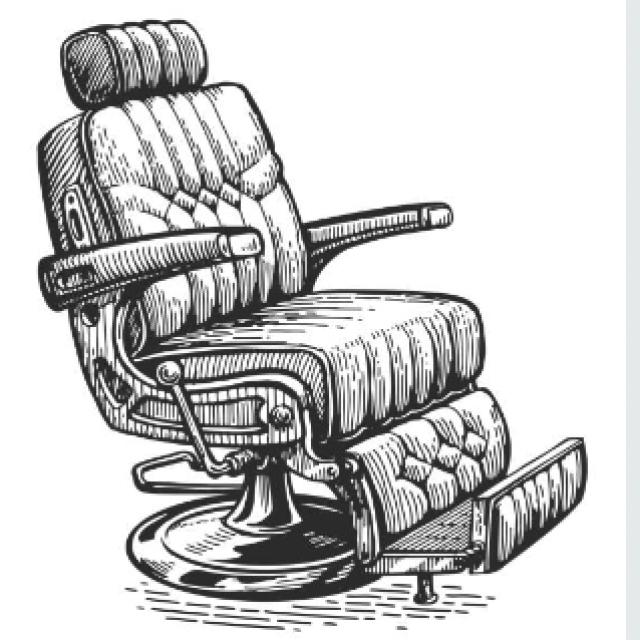Armrest: (34, 224, 272, 316), (299, 200, 455, 291)
Backrest: (33, 83, 316, 386)
Base: (120, 492, 373, 603)
Control_Mechanism: (137, 348, 272, 499)
Headrest: (57, 16, 212, 111)
Seat: (121, 285, 489, 455)
